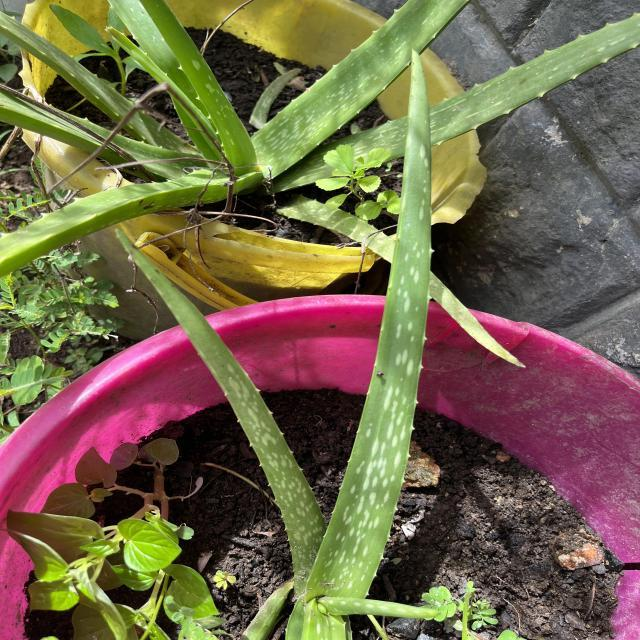Aloe vera: (301, 40, 434, 601)
